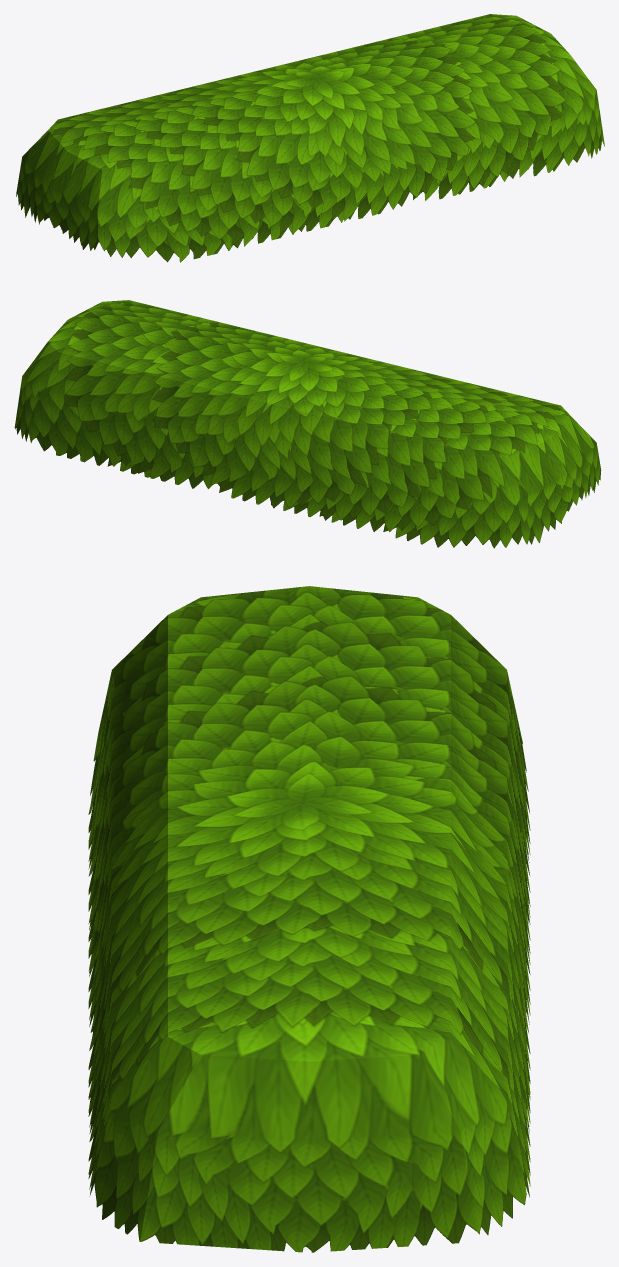
The model's file is bush 2.FBX.
The picture shows the model from 3 angles, top to bottom: view 1: azimuth 30°, elevation 25°; view 2: azimuth 150°, elevation 25°; view 3: azimuth 270°, elevation 25°; orthographic projection. The views are drawn at different scales.
Parts seen in each view (by area): view 1: Box002; view 2: Box002; view 3: Box002.
Boxes of the visible parts, x1,y1,x2,y2 form: Box002: [16, 14, 604, 262]; Box002: [14, 300, 601, 548]; Box002: [88, 586, 530, 1252].
Bounding box in the file's own units: 81.14 × 14.54 × 29.37.
1 material, 1 textured.
